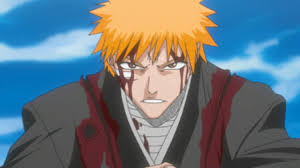Ichigo: (101, 2, 204, 119)
